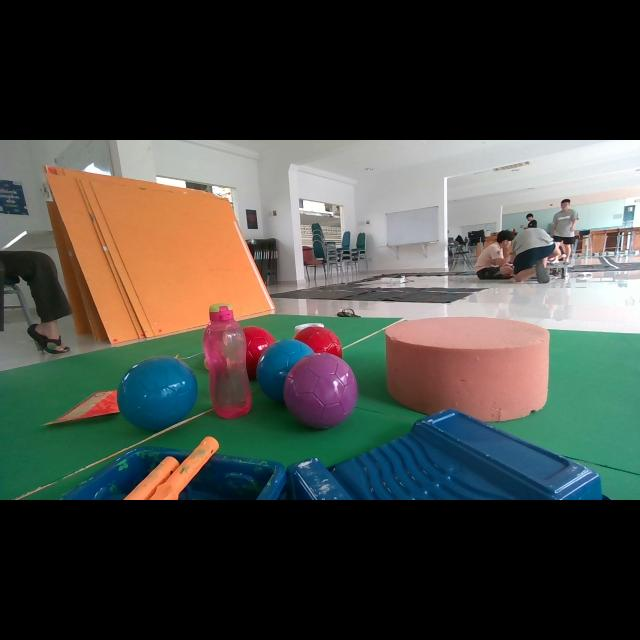B: (118, 356, 198, 430), (256, 339, 314, 402)
P: (284, 352, 358, 429)
R: (242, 326, 276, 379), (294, 326, 342, 358)
